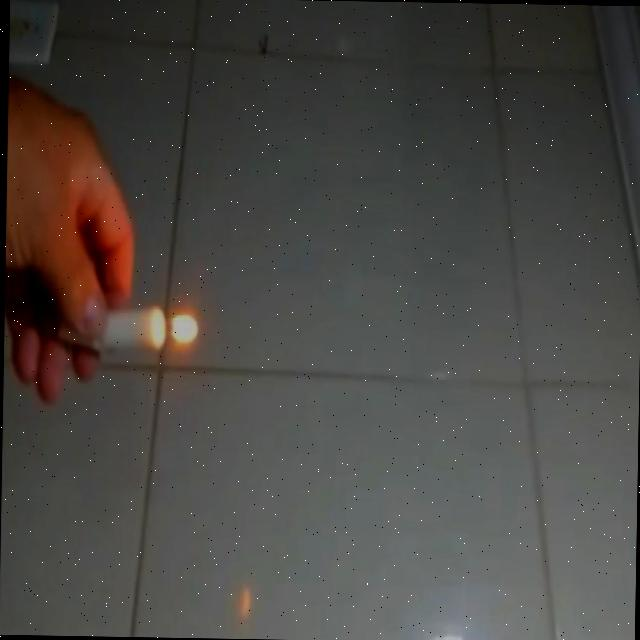fire: (163, 308, 200, 349)
